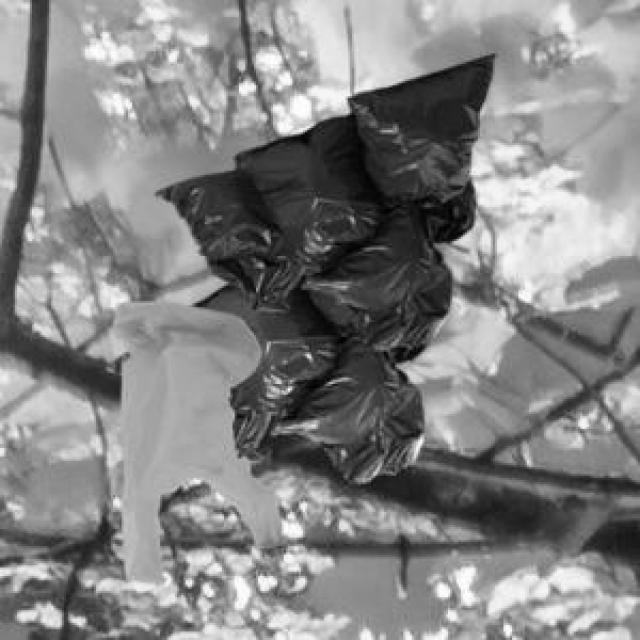miscellaneous trash: (152, 51, 490, 348), (187, 260, 427, 480)
